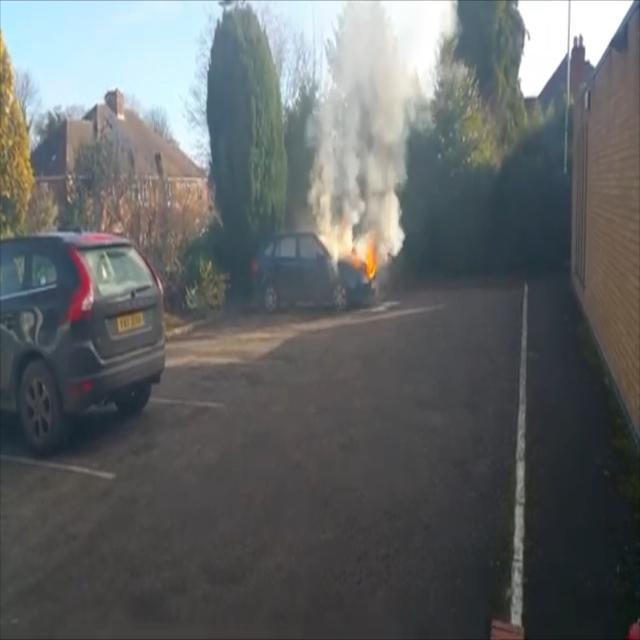fire: (329, 220, 386, 286)
